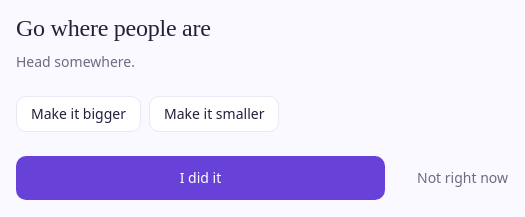
it: TinyActionFlow › Make it bigger and Make it smaller navigate the ladder client-side, no logging
Click the button "Make it bigger": (78, 114) [16,96,141,132]
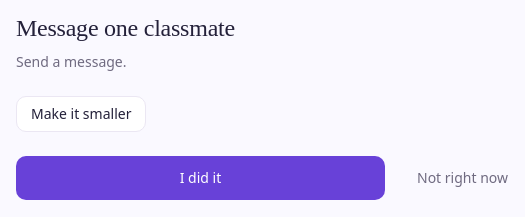
Now the heading "Message one classmate" is shown, box [16,15,235,41]
Now the button "Make it bigger" is gone
